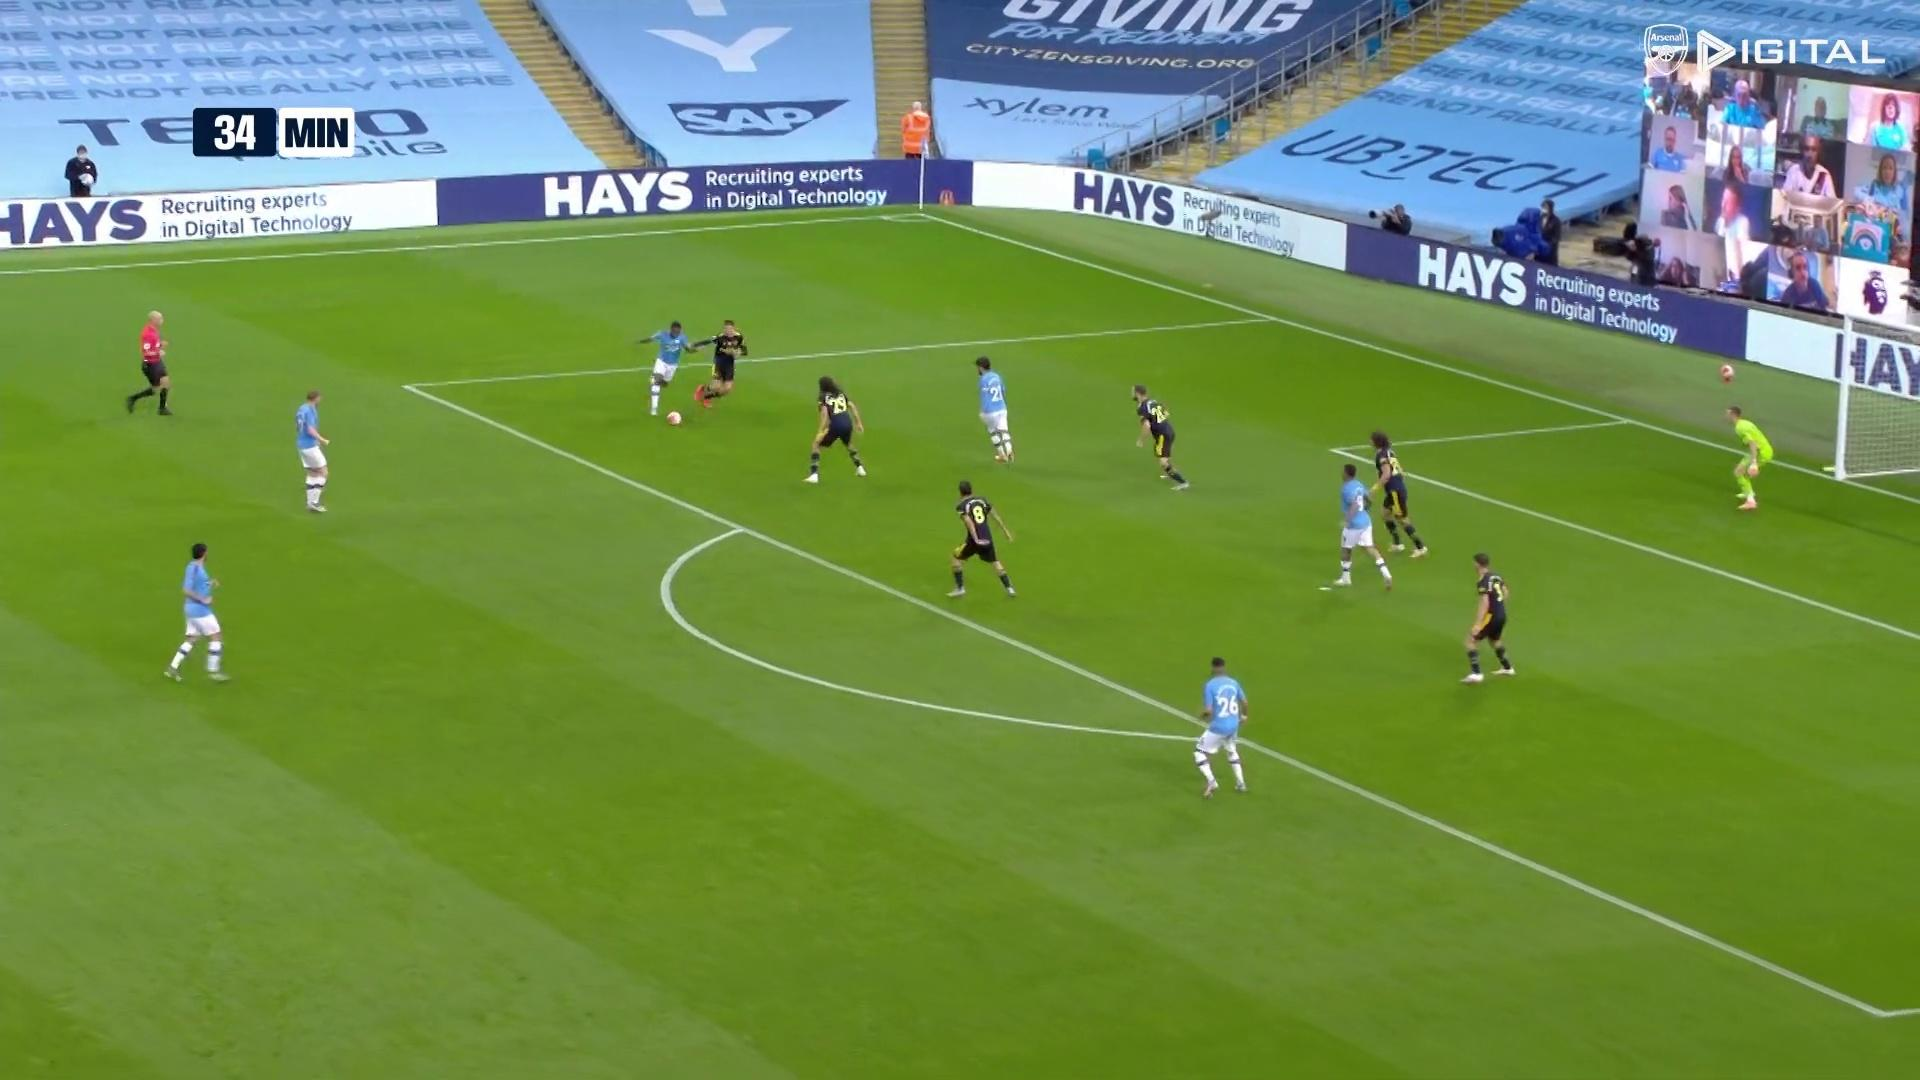ball: (1713, 357, 1742, 387), (663, 408, 685, 430)
goalkeeper: (1705, 400, 1780, 516)
player: (1310, 452, 1399, 605), (1182, 650, 1260, 803), (158, 538, 235, 687), (938, 472, 1022, 608), (1361, 420, 1437, 567), (1455, 540, 1525, 693), (799, 362, 870, 499), (685, 310, 772, 414), (626, 313, 706, 420), (1126, 376, 1195, 500), (963, 352, 1024, 471), (288, 385, 336, 525)
referee: (122, 303, 178, 423)
